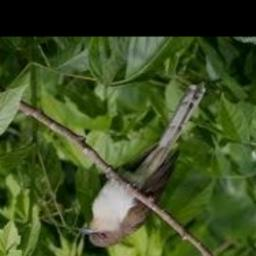Cuckoo: (82, 83, 208, 248)
